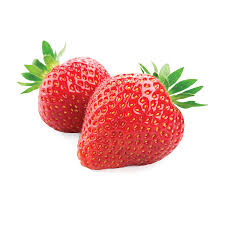strawberry: (76, 64, 202, 172), (22, 41, 120, 136)
